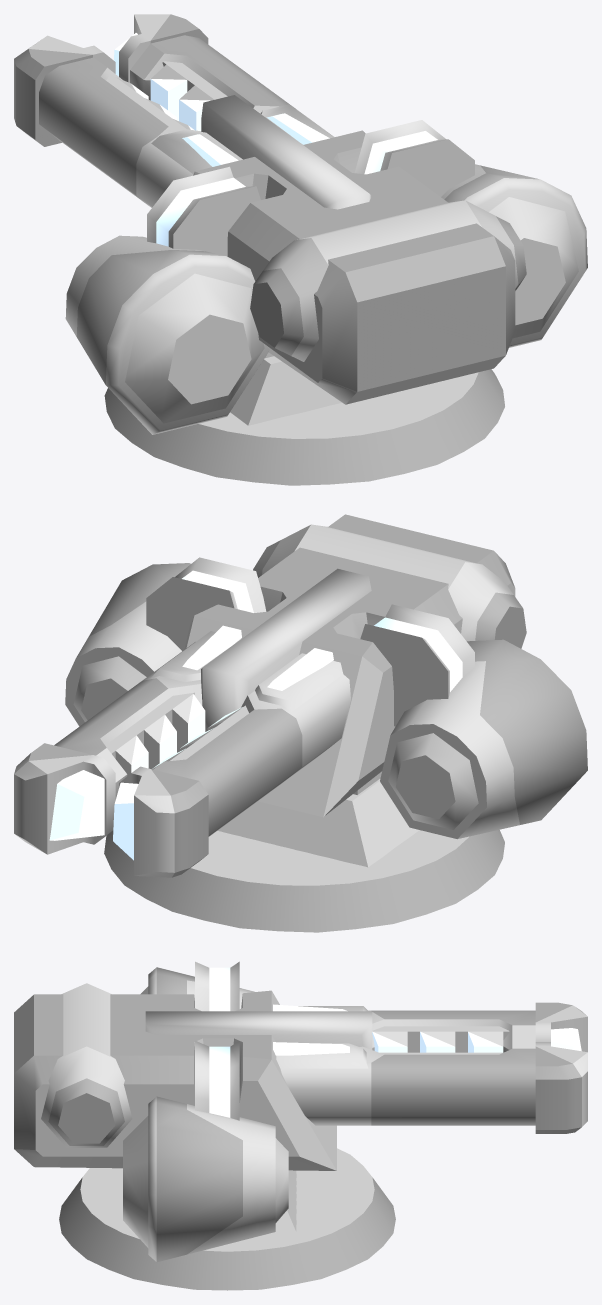
The model's file is SM_Module_TurretHead_Kinetic_T2.fbx.
3 renders of one model, top to bottom at view 1: azimuth 30°, elevation 25°; view 2: azimuth 150°, elevation 25°; view 3: azimuth 270°, elevation 25°, orthographic. The views are drawn at different scales.
Visible parts, largest first — view 1: SM_Module_TurretHead_Kinetic_T2.002; view 2: SM_Module_TurretHead_Kinetic_T2.002; view 3: SM_Module_TurretHead_Kinetic_T2.002.
Boxes of the visible parts, x1,y1,x2,y2 form: SM_Module_TurretHead_Kinetic_T2.002: (14,14,587,485); SM_Module_TurretHead_Kinetic_T2.002: (14,514,587,932); SM_Module_TurretHead_Kinetic_T2.002: (14,961,587,1290).
Bounding box in the file's own units: 3.52 × 4.31 × 1.71.
